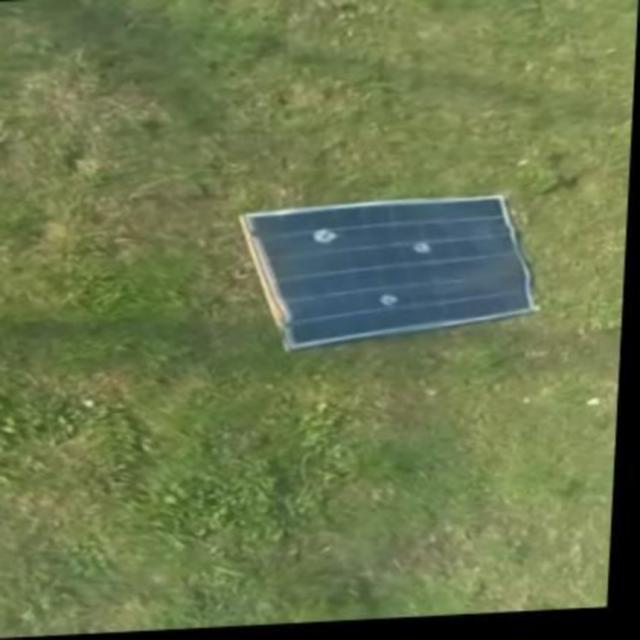soiled: (246, 190, 548, 352)
